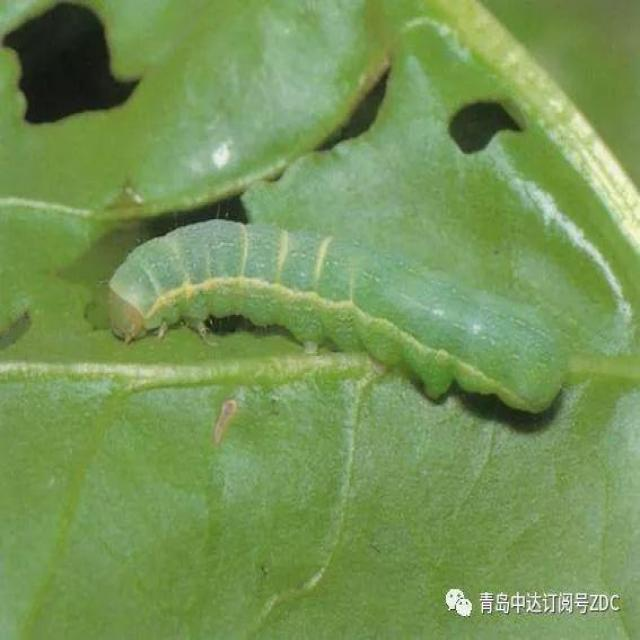BeetArmyWorm-Larva-: (92, 208, 571, 431)
